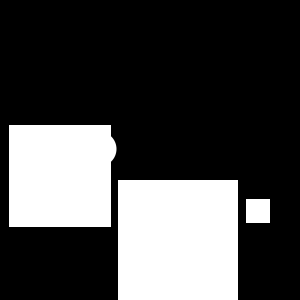circle: (118, 180, 238, 300), (9, 125, 111, 227), (246, 199, 270, 223)
rectangle: (82, 132, 117, 166)
